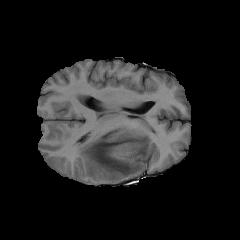glioma: (75, 128, 151, 182)
